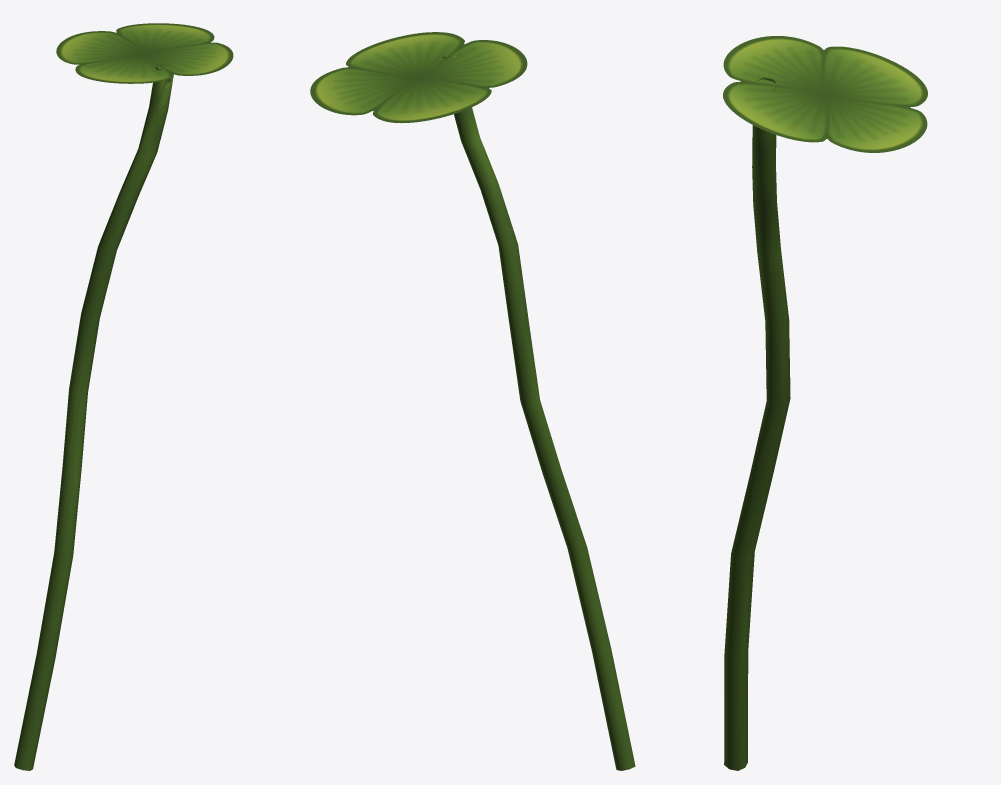
The model's file is LillypadBob.fbx.
3 views of the same model, side by side, from view 1: azimuth 30°, elevation 25°; view 2: azimuth 150°, elevation 25°; view 3: azimuth 270°, elevation 25° (orthographic). The views are drawn at different scales.
Visible parts, largest first — view 1: LillypadBase (2), RoofTile; view 2: LillypadBase (2), RoofTile; view 3: RoofTile, LillypadBase (2).
Part boxes in pixels (x1=…): LillypadBase (2): x1=14, y1=64, x2=173, y2=770; RoofTile: x1=56, y1=23, x2=233, y2=83; LillypadBase (2): x1=442, y1=50, x2=635, y2=770; RoofTile: x1=310, y1=32, x2=527, y2=123; RoofTile: x1=723, y1=36, x2=927, y2=152; LillypadBase (2): x1=724, y1=77, x2=790, y2=770.
Bounding box in the file's own units: 0.999 × 2.2 × 0.8238.
